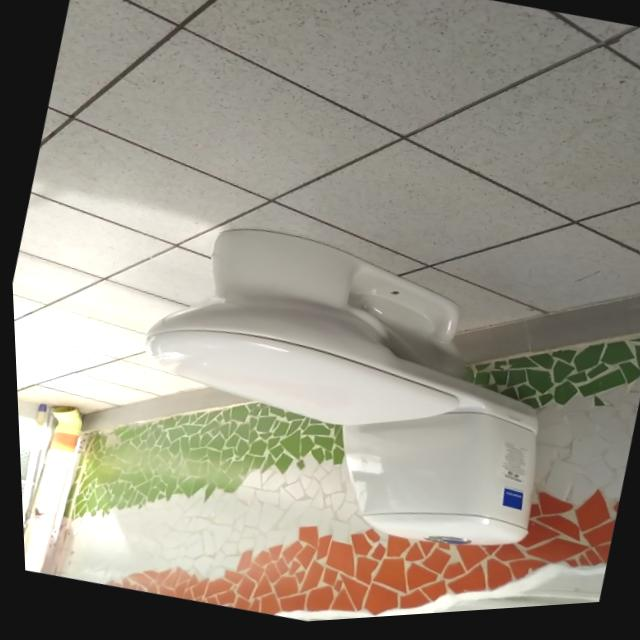toilet: (100, 194, 583, 588)
